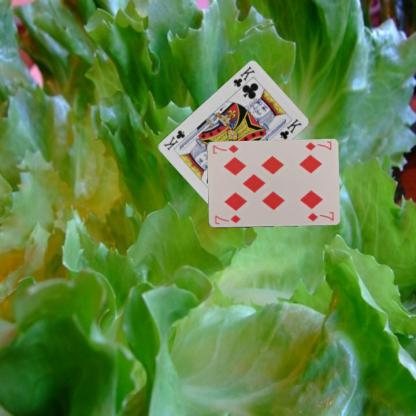7d: (303, 139, 332, 152), (212, 213, 242, 225)
Kc: (230, 64, 256, 89)
